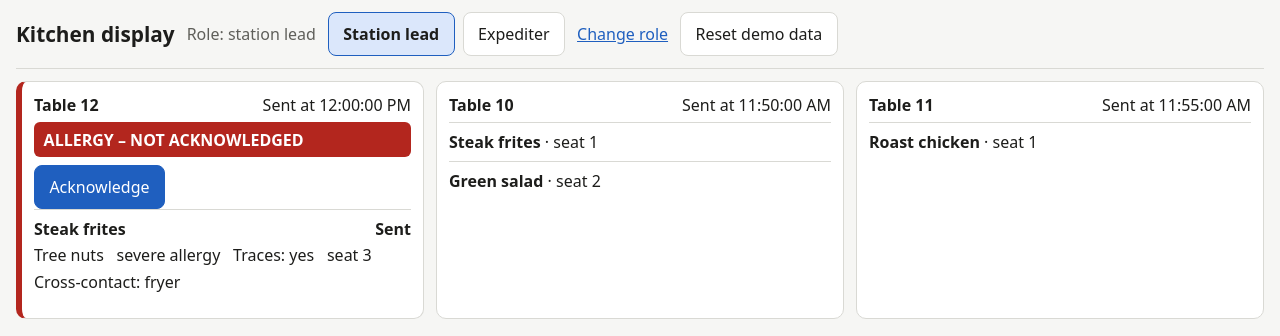
Test: REQ-21 (SHOULD): sound and flashing label › REQ-21: an acknowledged ticket never flashes (the label is gone)
Click the button "Acknowledge".
click(99, 187)  # box [34,165,165,209]
Wait 1000 ms
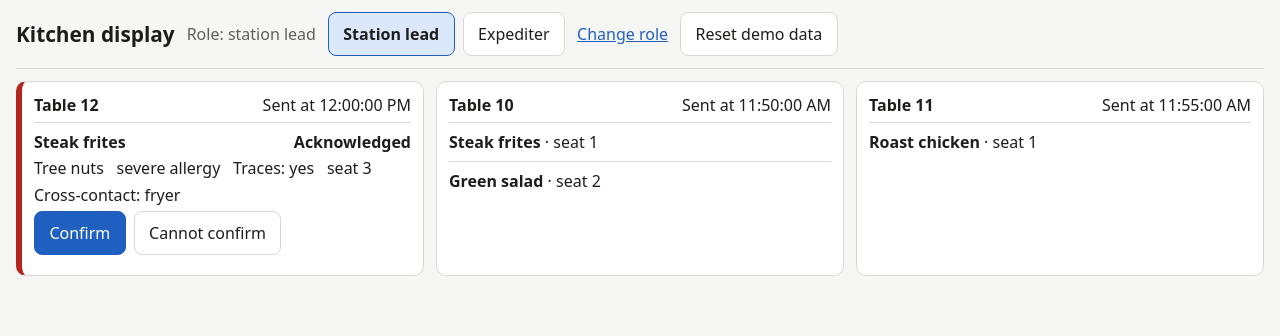
Result: the text with test id "allergy-label" is gone
